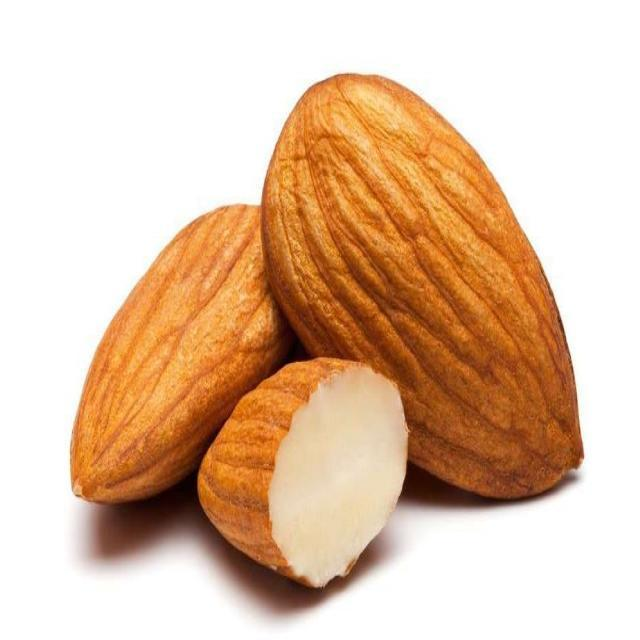almond: (262, 72, 582, 502), (72, 205, 297, 508)
